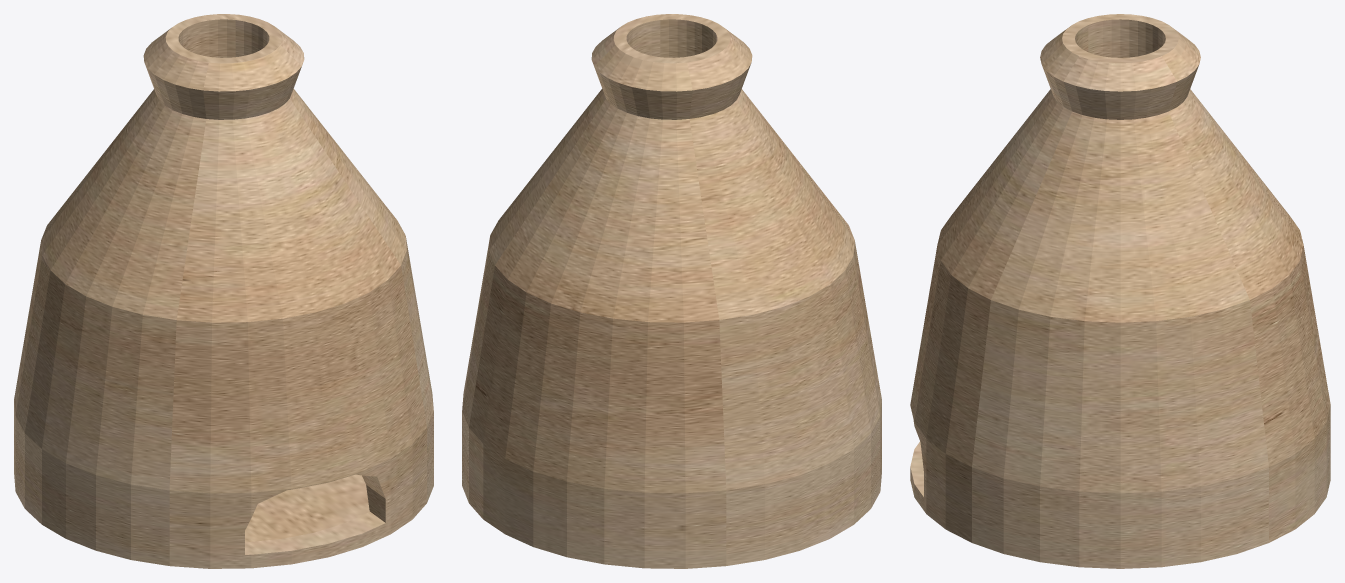
The model's file is Storage_Large.glb.
3 renders of one model, left to right at view 1: azimuth 30°, elevation 25°; view 2: azimuth 150°, elevation 25°; view 3: azimuth 270°, elevation 25°, orthographic.
Parts seen in each view (by area): view 1: storage_large.001; view 2: storage_large.001; view 3: storage_large.001.
Part boxes in pixels (x1,y1,x2,y2): storage_large.001: [14, 14, 433, 568]; storage_large.001: [462, 14, 881, 568]; storage_large.001: [910, 14, 1330, 568].
Bounding box in the file's own units: 3.41 × 3.96 × 3.41.
Materials: 1 (1 with a texture image).
